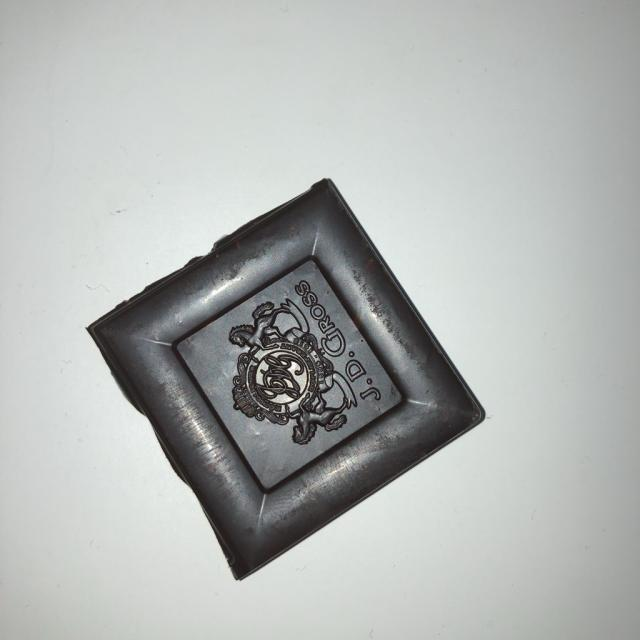chocolate: (102, 189, 469, 566)
